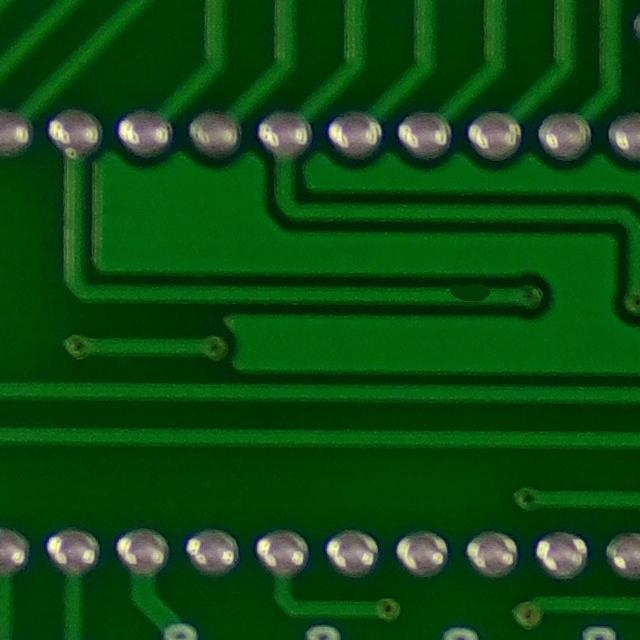mouse_bite: (437, 275, 501, 313)
